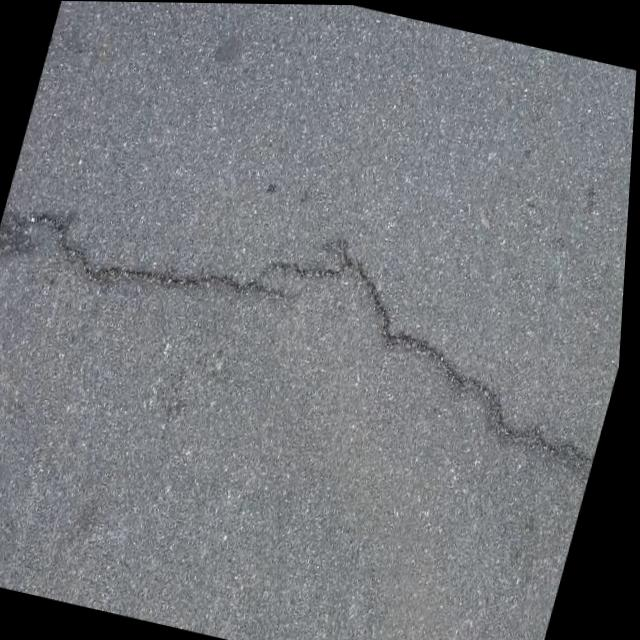Crack: (0, 157, 633, 488)
